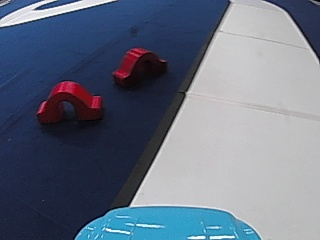bridge: (33, 77, 106, 125), (110, 44, 168, 91)
